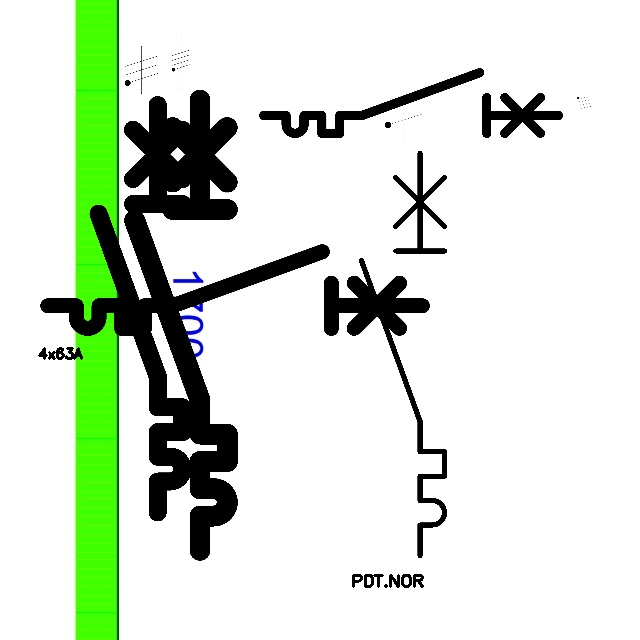interruptor_termomagnetico: (123, 88, 239, 561), (88, 94, 193, 523), (351, 142, 455, 566), (38, 242, 432, 338), (256, 65, 566, 141)
